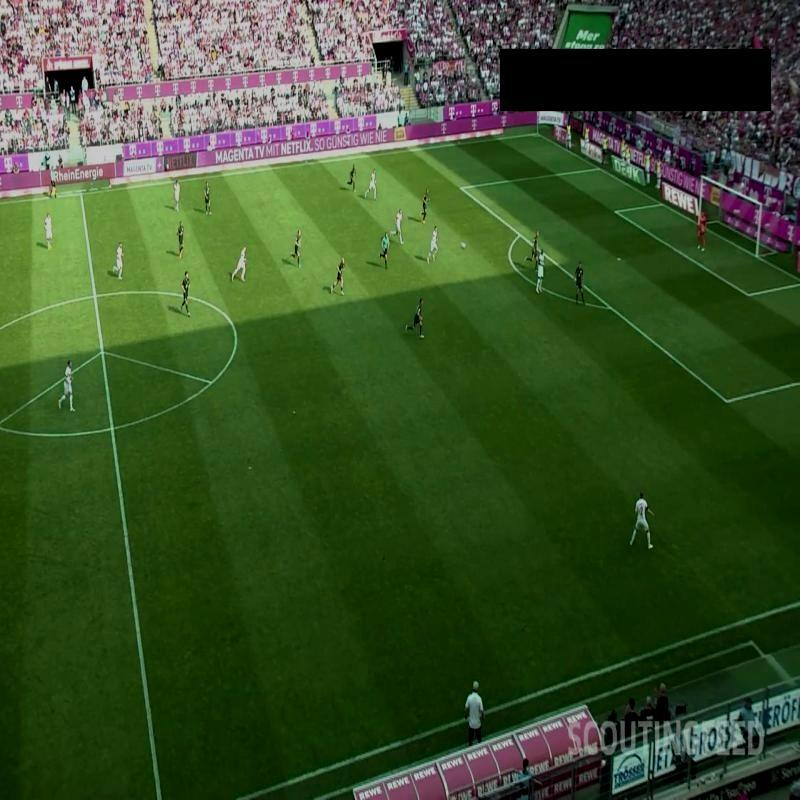1: (530, 125, 544, 140)
10: (512, 226, 526, 240)
11: (602, 299, 616, 313)
12: (720, 393, 734, 407)
13: (74, 185, 88, 199)
14: (87, 287, 101, 301)
15: (104, 420, 118, 434)
2: (592, 160, 606, 174)
3: (655, 196, 669, 210)
7: (610, 204, 624, 217)
8: (742, 286, 756, 300)
9: (456, 180, 470, 194)
c: (226, 324, 240, 338)
